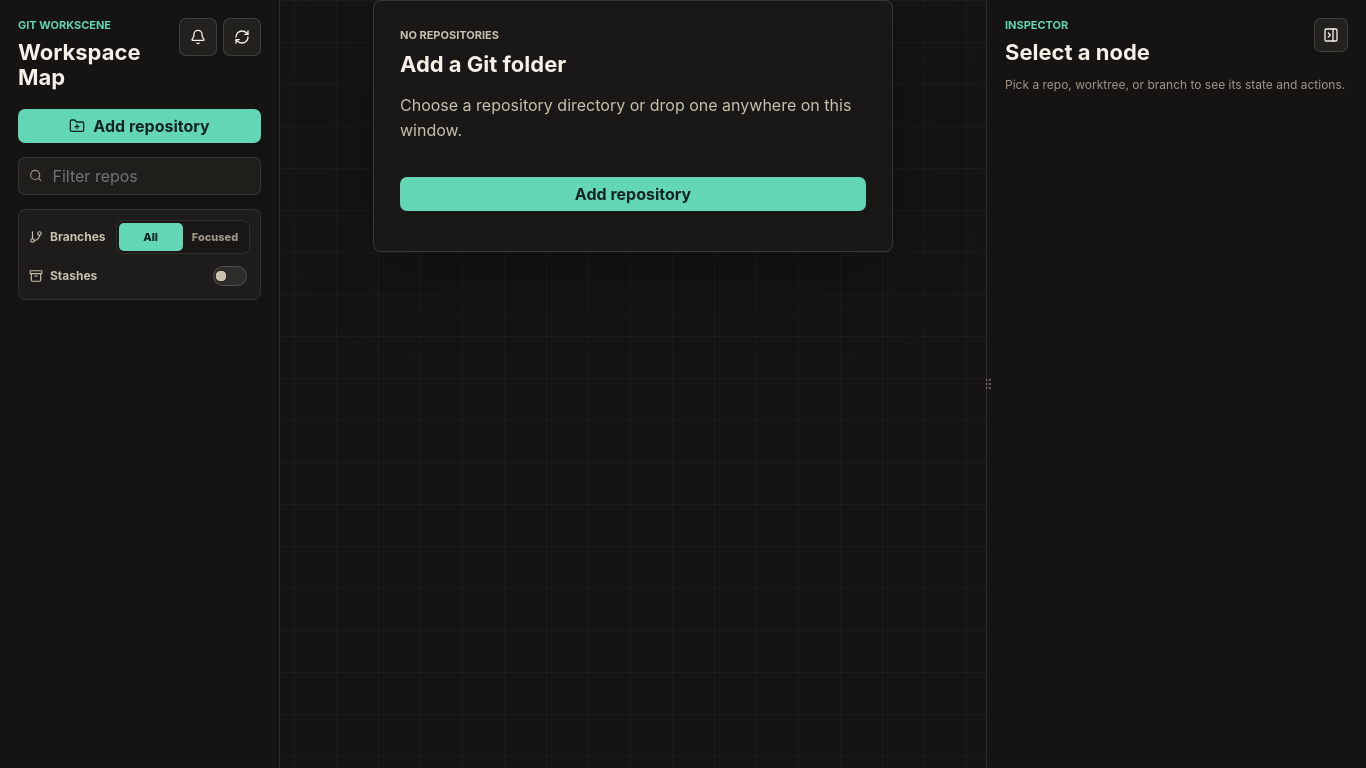
Test: App › shows dialog permission failures instead of failing silently
The width and height of the screenshot is (1366, 768).
Click the button "Add repository" below "Workspace Map": (140,126) [18, 109, 261, 143]
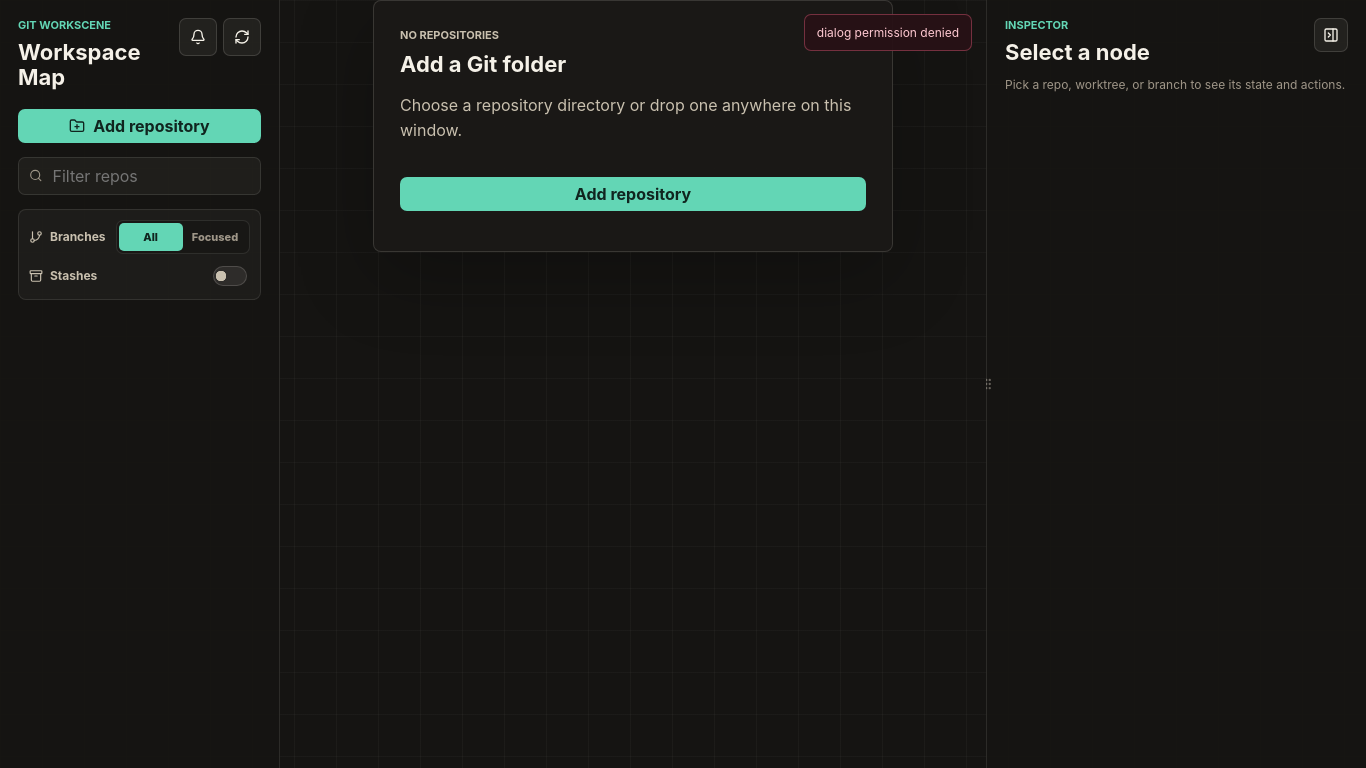
expect the text "dialog permission denied" is shown once: met, box [804, 14, 972, 51]
